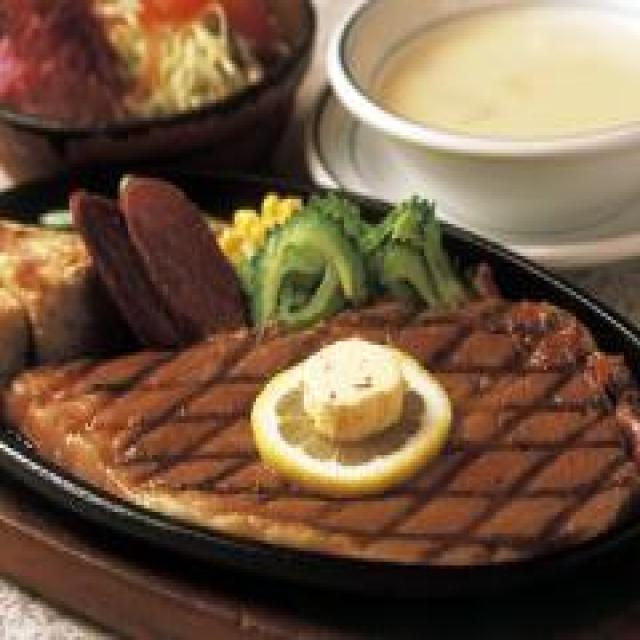牛肉菜式: (0, 267, 640, 576)
